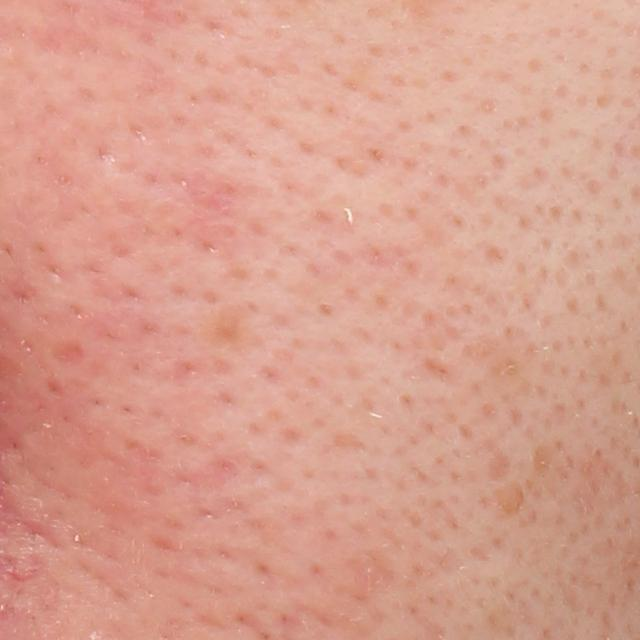atrophic_scar: (200, 300, 262, 363), (485, 446, 516, 484), (497, 481, 527, 516)
